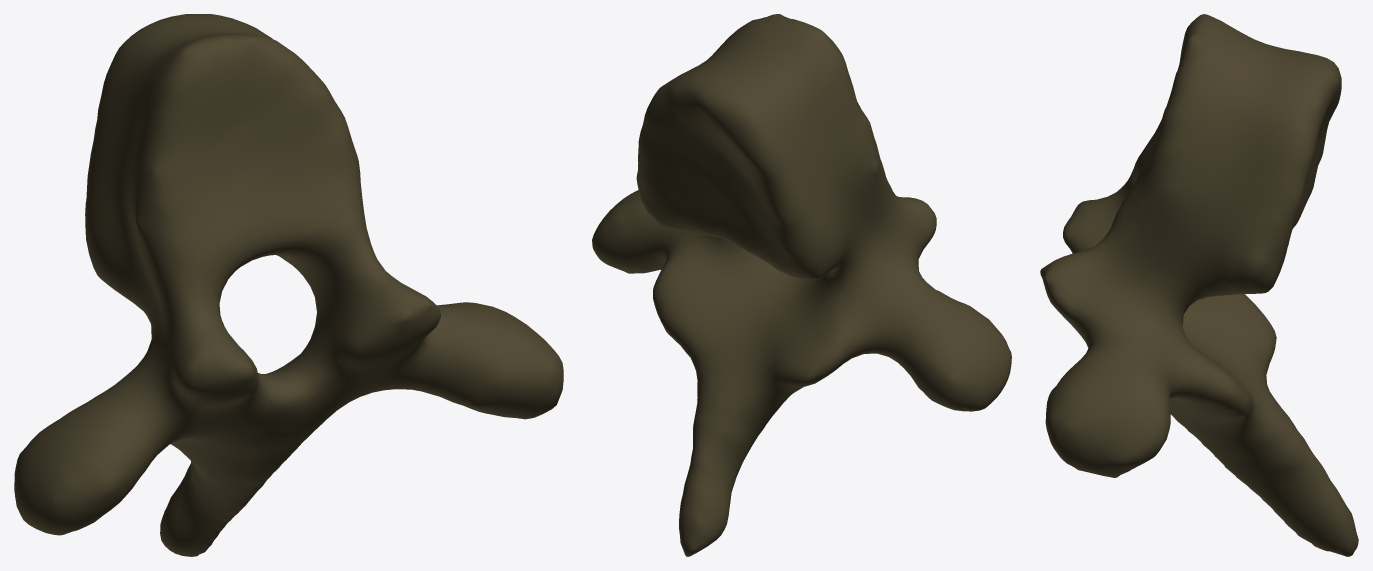
The model's file is segmentations_vertebrae_T4.obj.
The picture shows the model from 3 angles, left to right: view 1: azimuth 30°, elevation 25°; view 2: azimuth 150°, elevation 25°; view 3: azimuth 270°, elevation 25°; orthographic projection. The views are drawn at different scales.
Parts seen in each view (by area): view 1: grp1; view 2: grp1; view 3: grp1.
Boxes of the visible parts, left/top/right/bottom form: grp1: left=14, top=14, right=563, bottom=556; grp1: left=592, top=14, right=1011, bottom=556; grp1: left=1040, top=14, right=1358, bottom=556.
Size of the model in its own units: 40.75 by 45.83 by 25.76.
